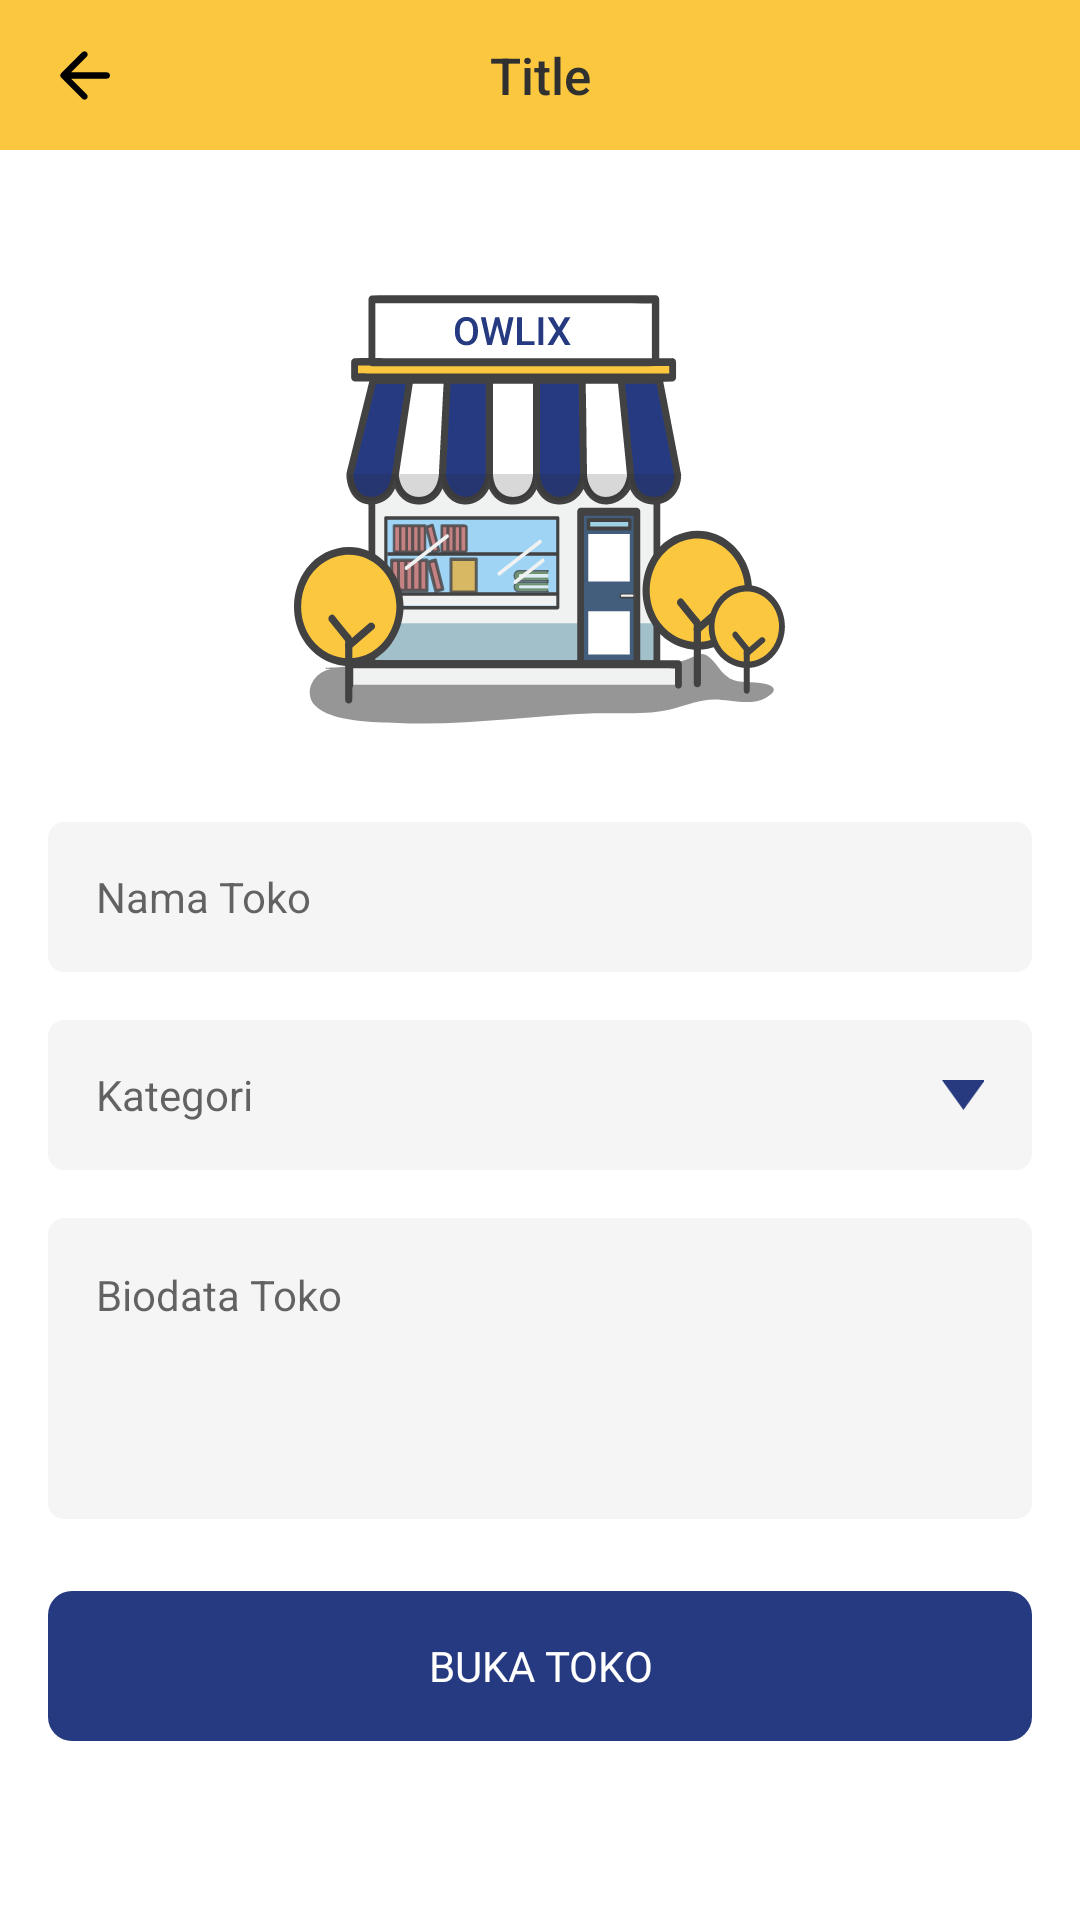

Screen size 1080w x 1920h. Icon name, then its center in pixels as [x,y]:
arrow bottom: [963,1095]
